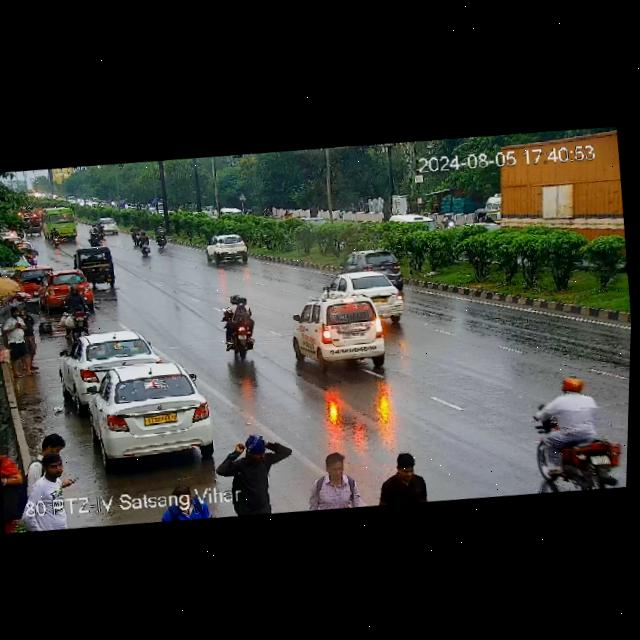bus: (38, 202, 80, 244)
car: (82, 354, 222, 465), (290, 287, 400, 377), (63, 324, 157, 397), (323, 266, 413, 328), (343, 244, 407, 286), (36, 267, 94, 307), (199, 229, 248, 267), (8, 262, 52, 302), (72, 243, 120, 278), (103, 216, 119, 236)
motorcycle: (519, 364, 630, 494), (210, 291, 262, 364), (56, 283, 92, 325), (126, 224, 150, 255), (132, 228, 155, 258), (154, 223, 171, 252), (87, 222, 105, 246), (49, 225, 60, 247)
person: (225, 434, 288, 506), (371, 445, 437, 506), (24, 431, 80, 496), (305, 447, 360, 512), (0, 306, 28, 378), (14, 307, 43, 375), (0, 455, 19, 484)
truck: (468, 144, 627, 255)
